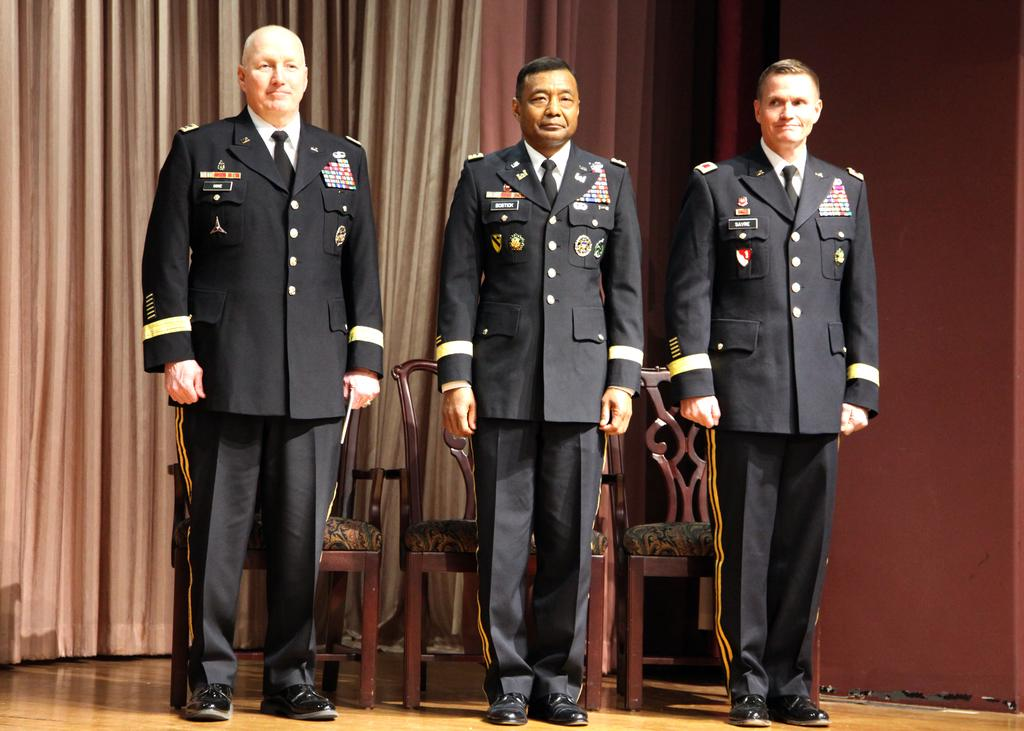Pessoa: (142, 26, 382, 719), (665, 60, 878, 725), (436, 57, 642, 724)
